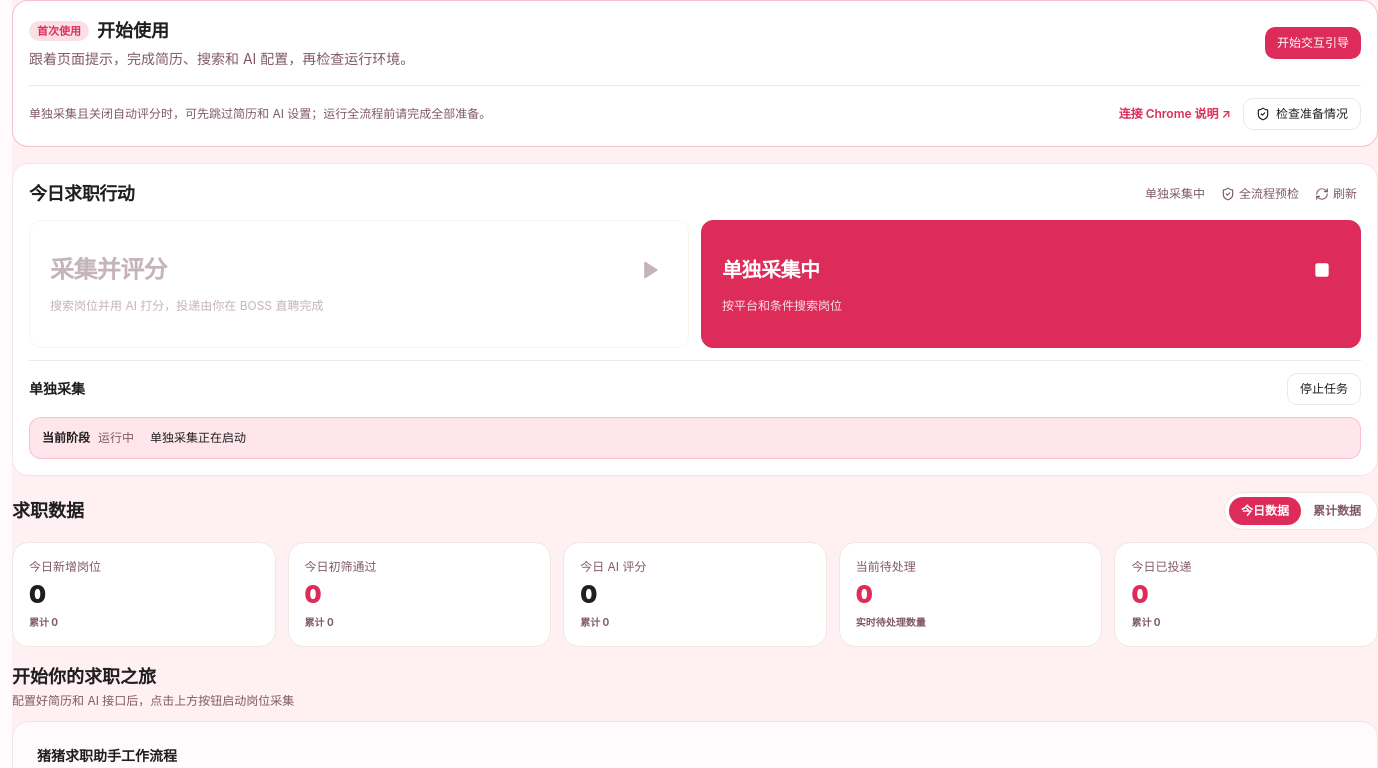
Scenario: DashboardPage workbench task panel › recovers the notice and surfaces the real error when stopping fails
Click the button "停止任务" at [1324, 389], box [1287,373,1361,405]
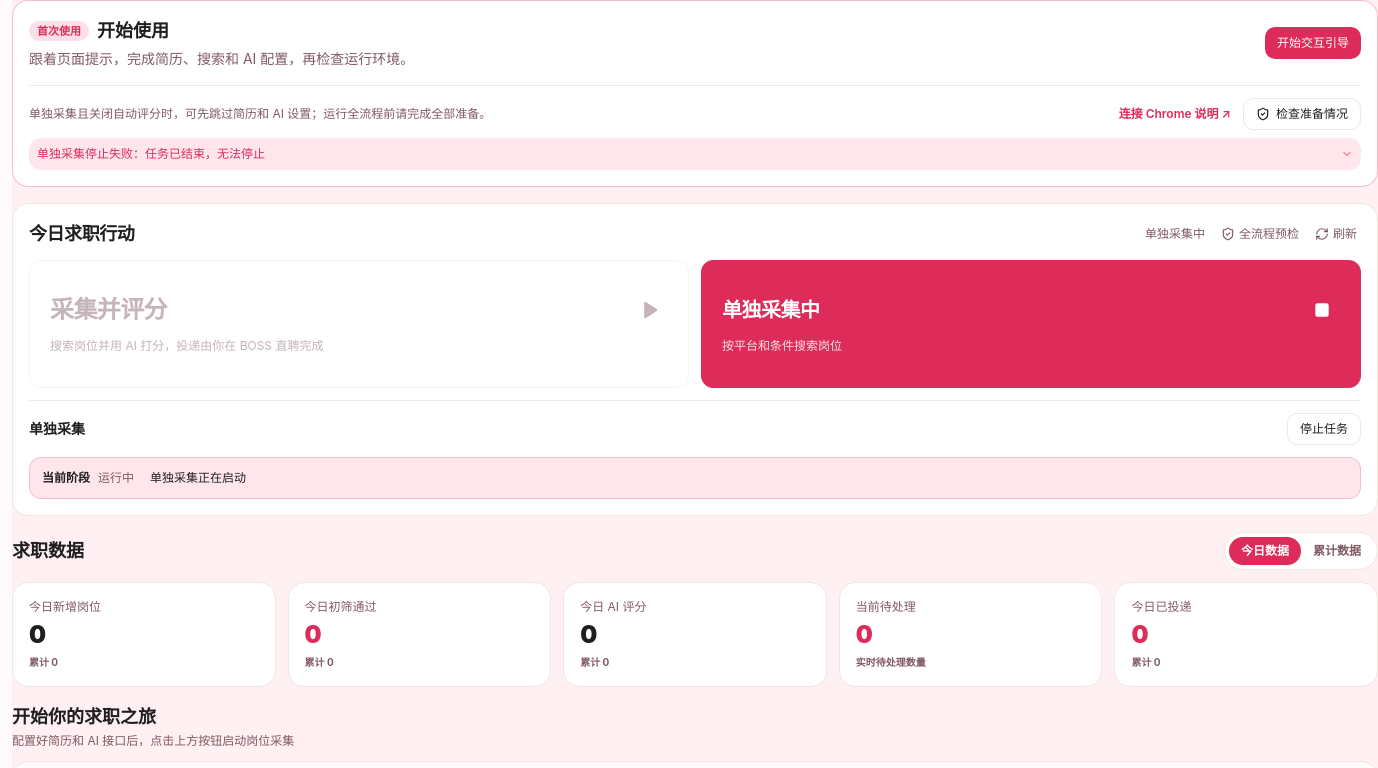
Result: the text "单独采集停止失败：任务已结束，无法停止" is shown at [37,146,265,161]
